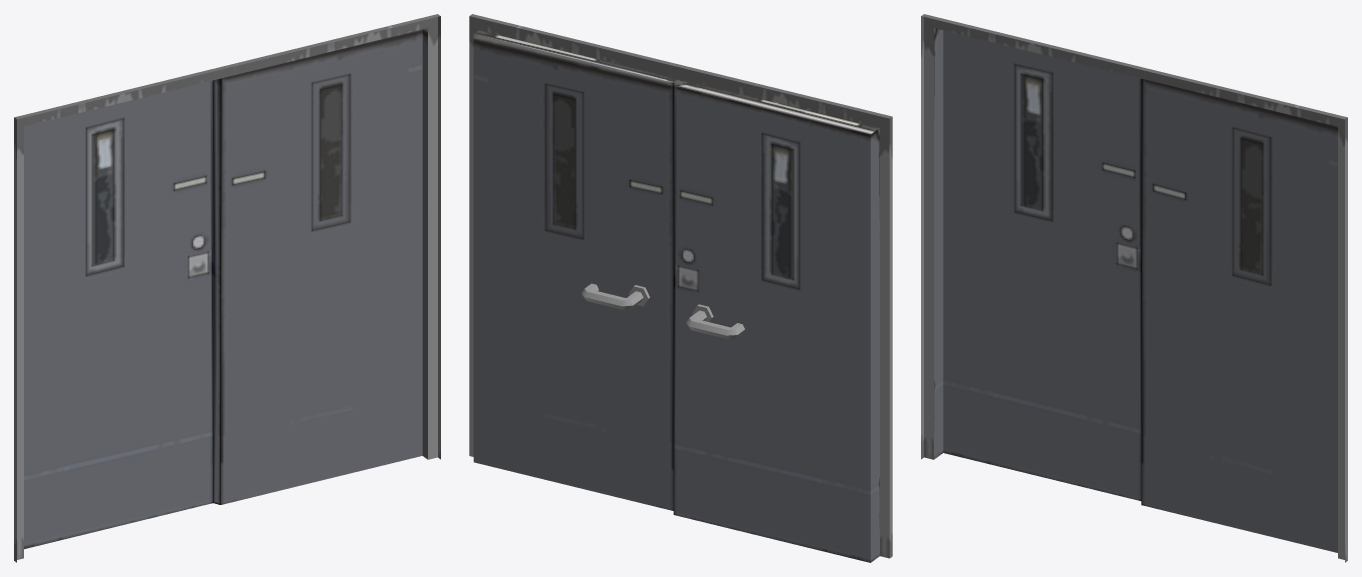
File: Grundriss_Tuer_Not.fbx
3 views of the same model, side by side, from view 1: azimuth 30°, elevation 25°; view 2: azimuth 150°, elevation 25°; view 3: azimuth 330°, elevation 25° (orthographic).
Parts seen in each view (by area): view 1: Notausgang; view 2: Notausgang; view 3: Notausgang.
Part boxes in pixels (<box>): Notausgang: <box>14,14,440,562</box>; Notausgang: <box>469,14,892,562</box>; Notausgang: <box>921,14,1347,562</box>.
Size of the model in its own units: 250 by 250 by 29.18.
